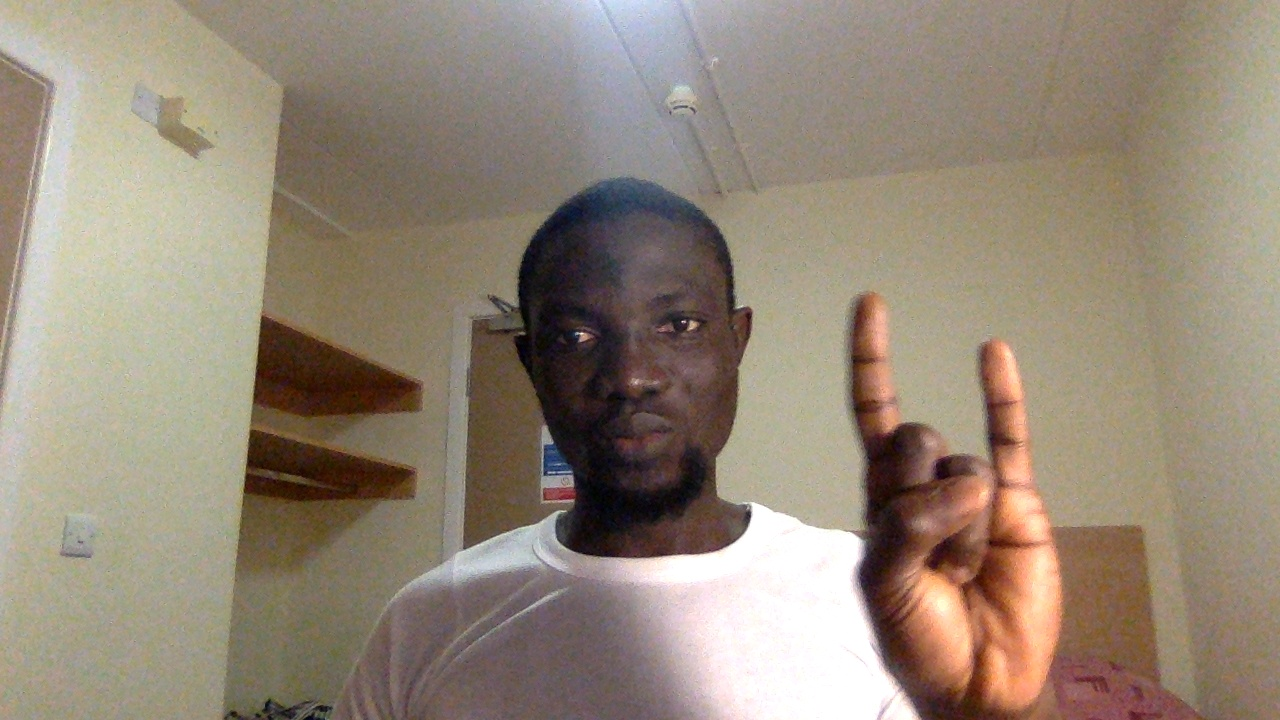I Love You: (836, 280, 1127, 720)
